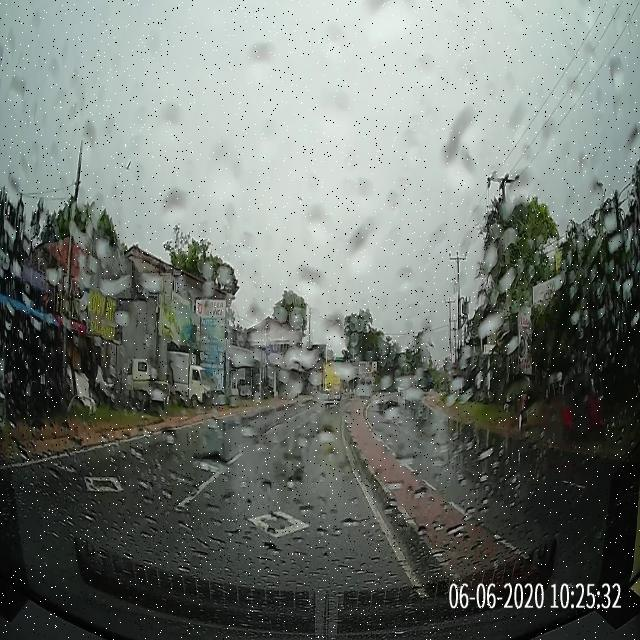diamond: (142, 483, 406, 554)
